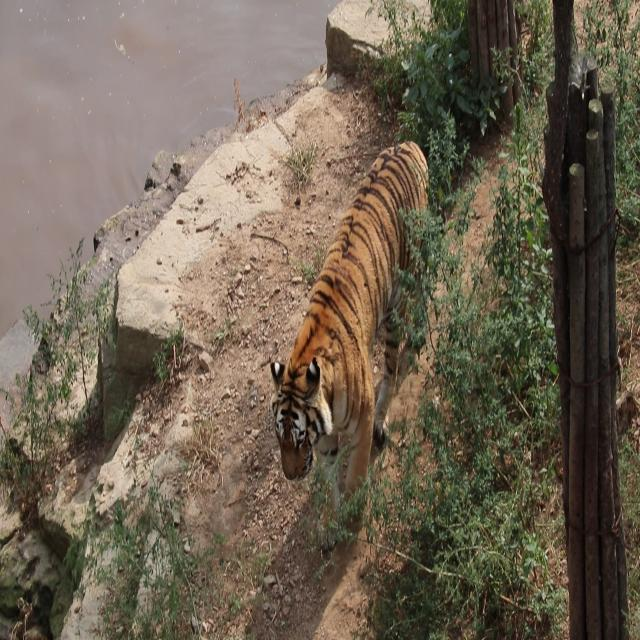Tiger: (268, 139, 459, 522)
